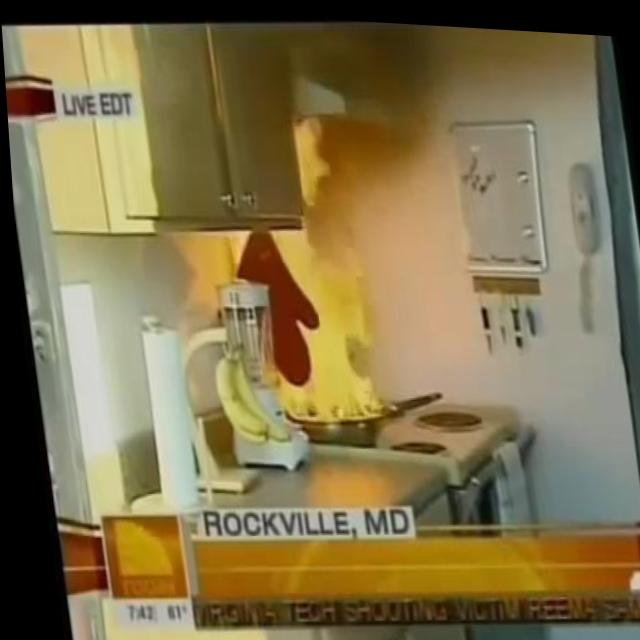fire: (224, 221, 392, 429), (293, 116, 340, 210)
